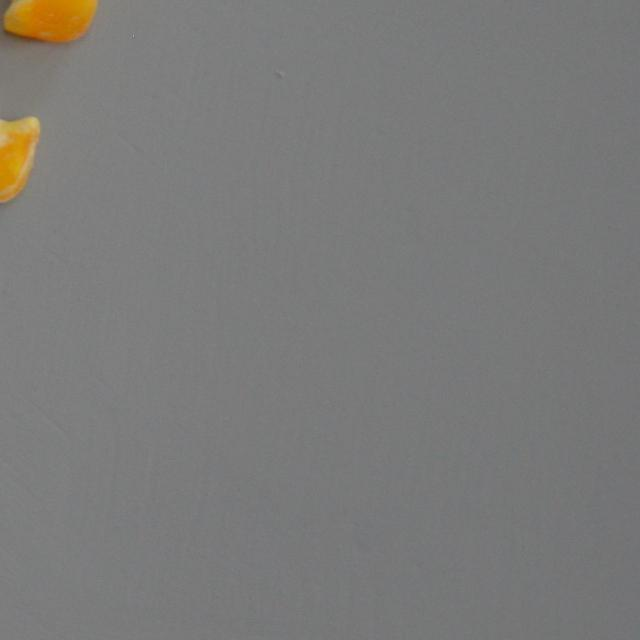dañado: (0, 81, 42, 208), (0, 0, 100, 46)
